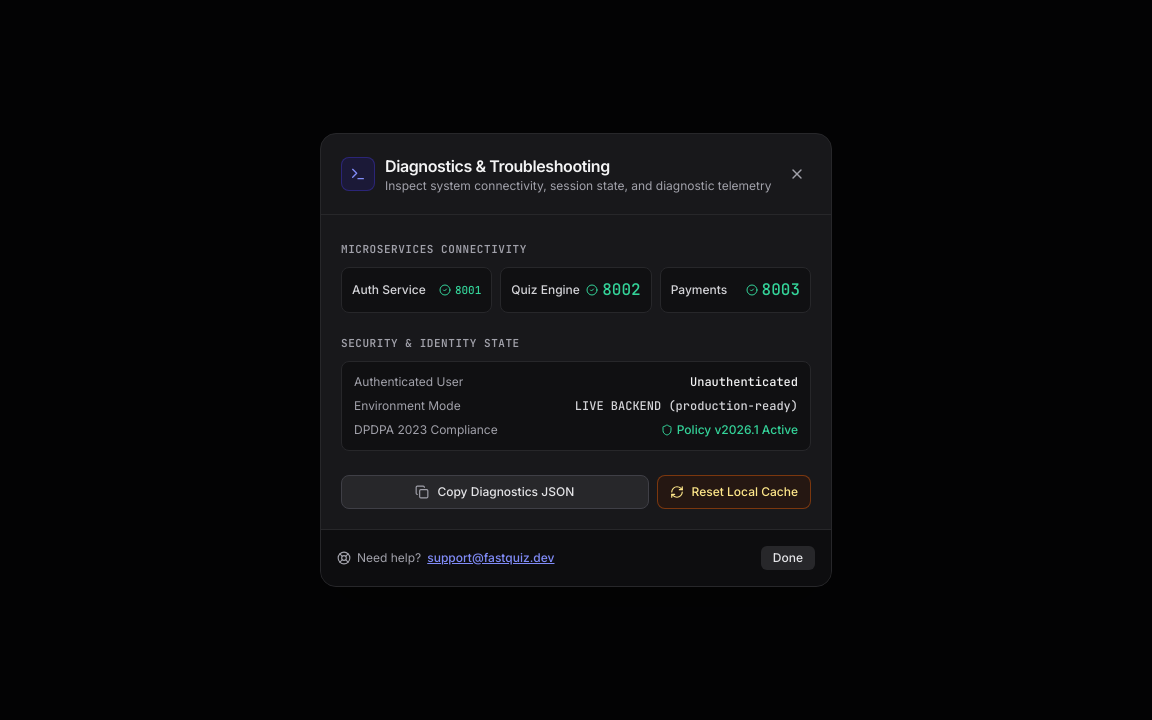
TroubleshootingModal Component › handles clipboard write failure gracefully
Click the button "Copy Diagnostics JSON" at (495, 492), box [341,475,649,509]
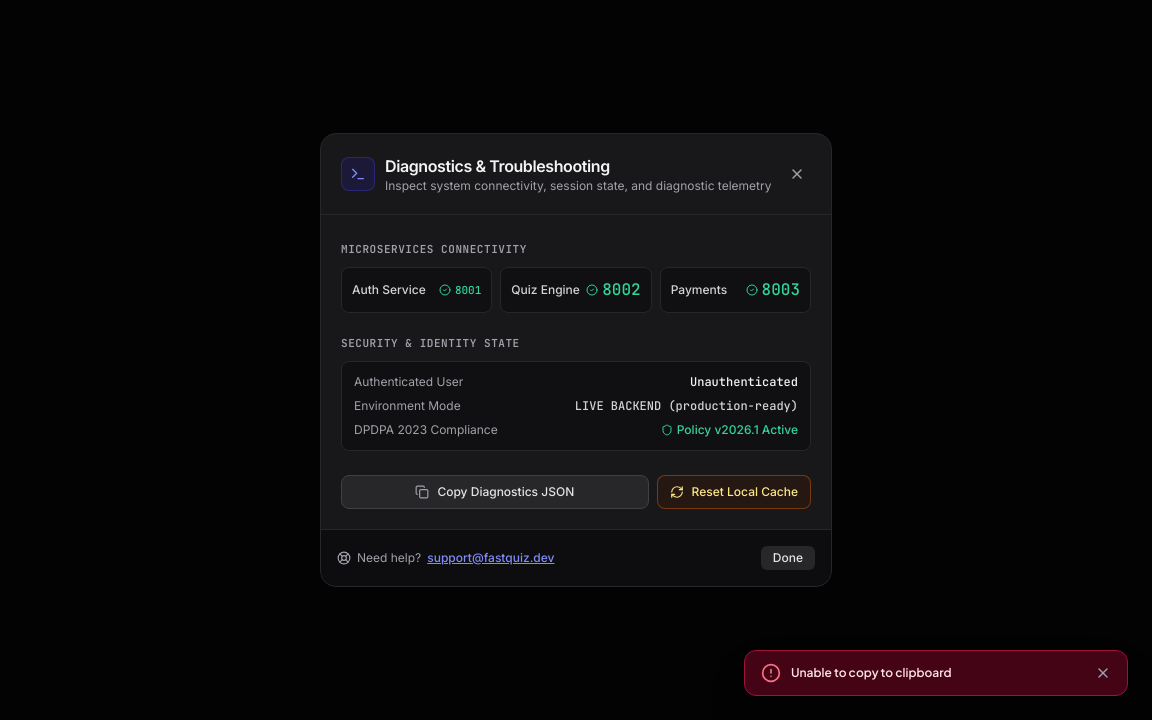
Expected: the text "Unable to copy to clipboard" is shown, [791,665,952,681]
